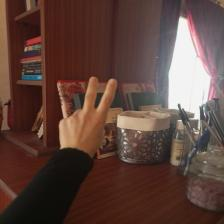two: (37, 72, 131, 160)
